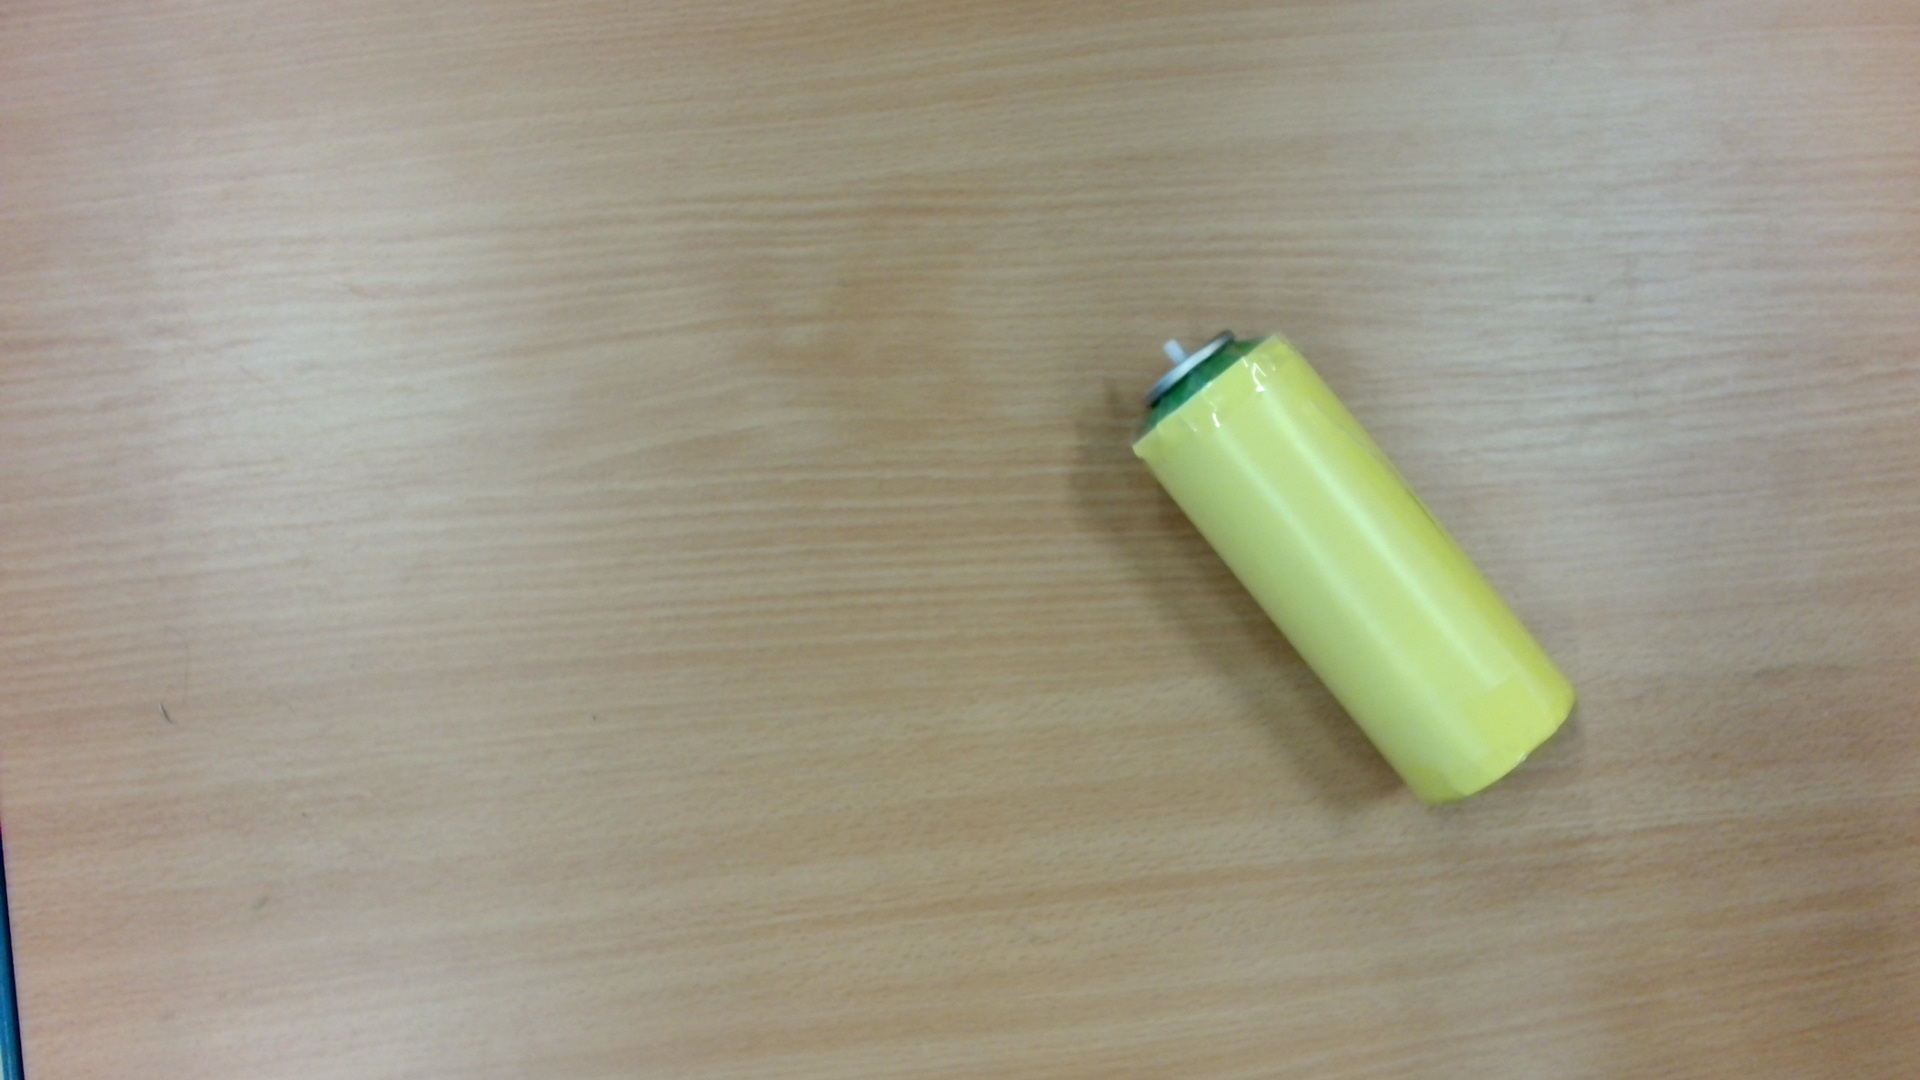Cylinder: (1124, 315, 1594, 818)
